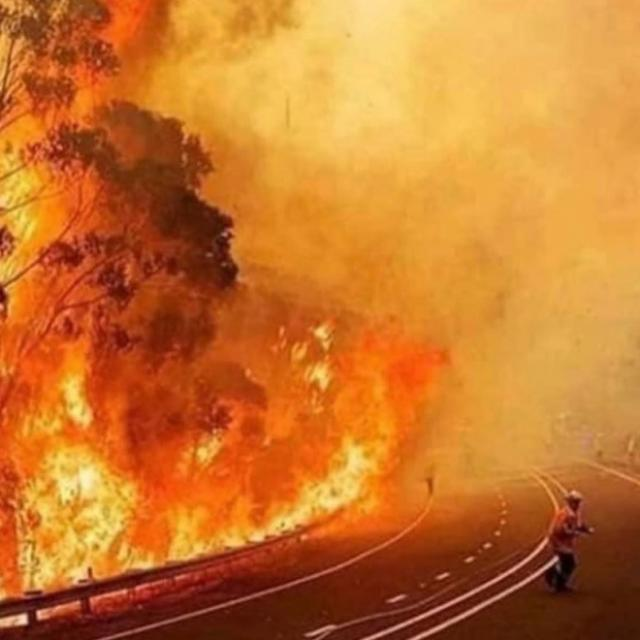Fire: (10, 280, 418, 588)
Smoke: (365, 0, 640, 277), (140, 0, 366, 276), (420, 280, 640, 476)
